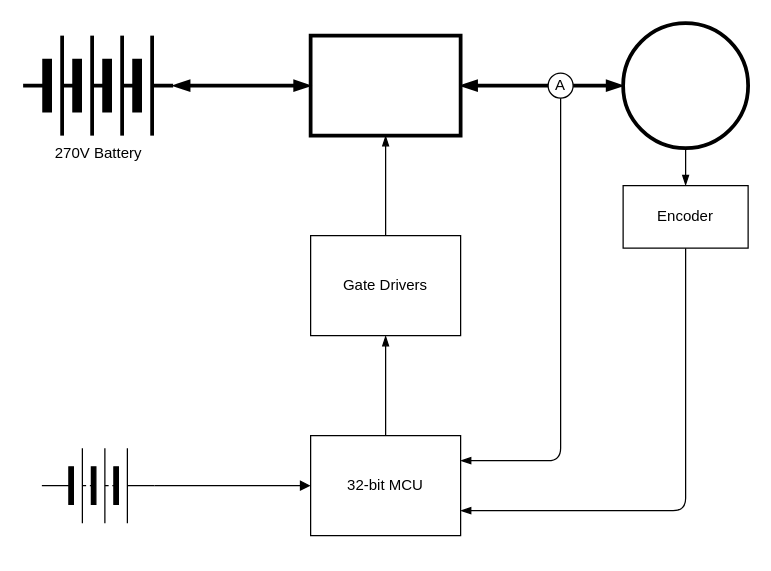
This 771x571 diagram has some shape labels left out. Here are the shapes that lost their labels. From the top down, the centre of each, then its label:
the point at 385,85: 3-Phase Inverter (IGBTs)
the point at 685,85: SG
the point at 97,485: 28V Battery
